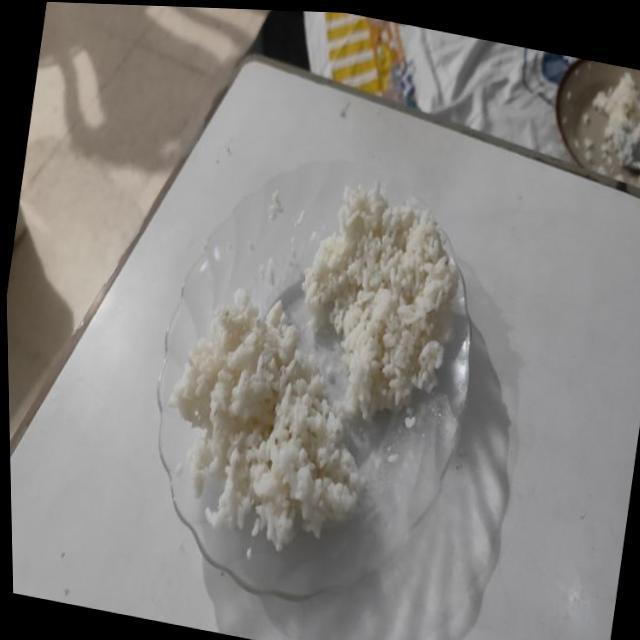nasi_putih: (170, 291, 361, 550), (302, 184, 458, 420)
